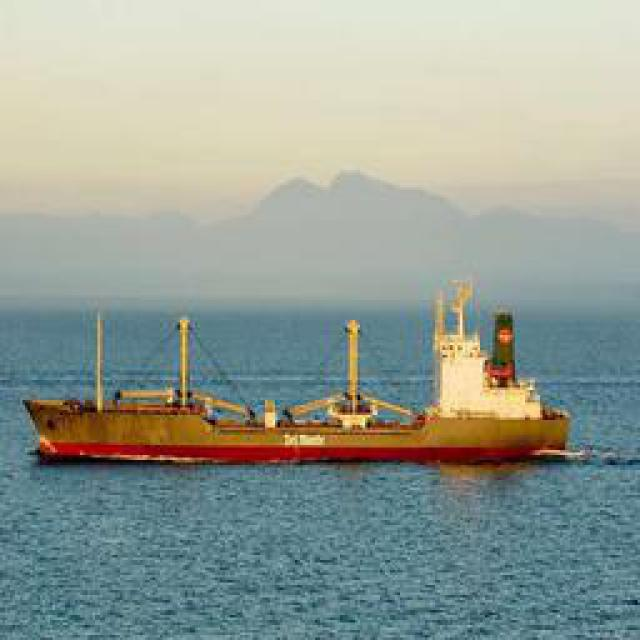Ship: (14, 315, 579, 463)
